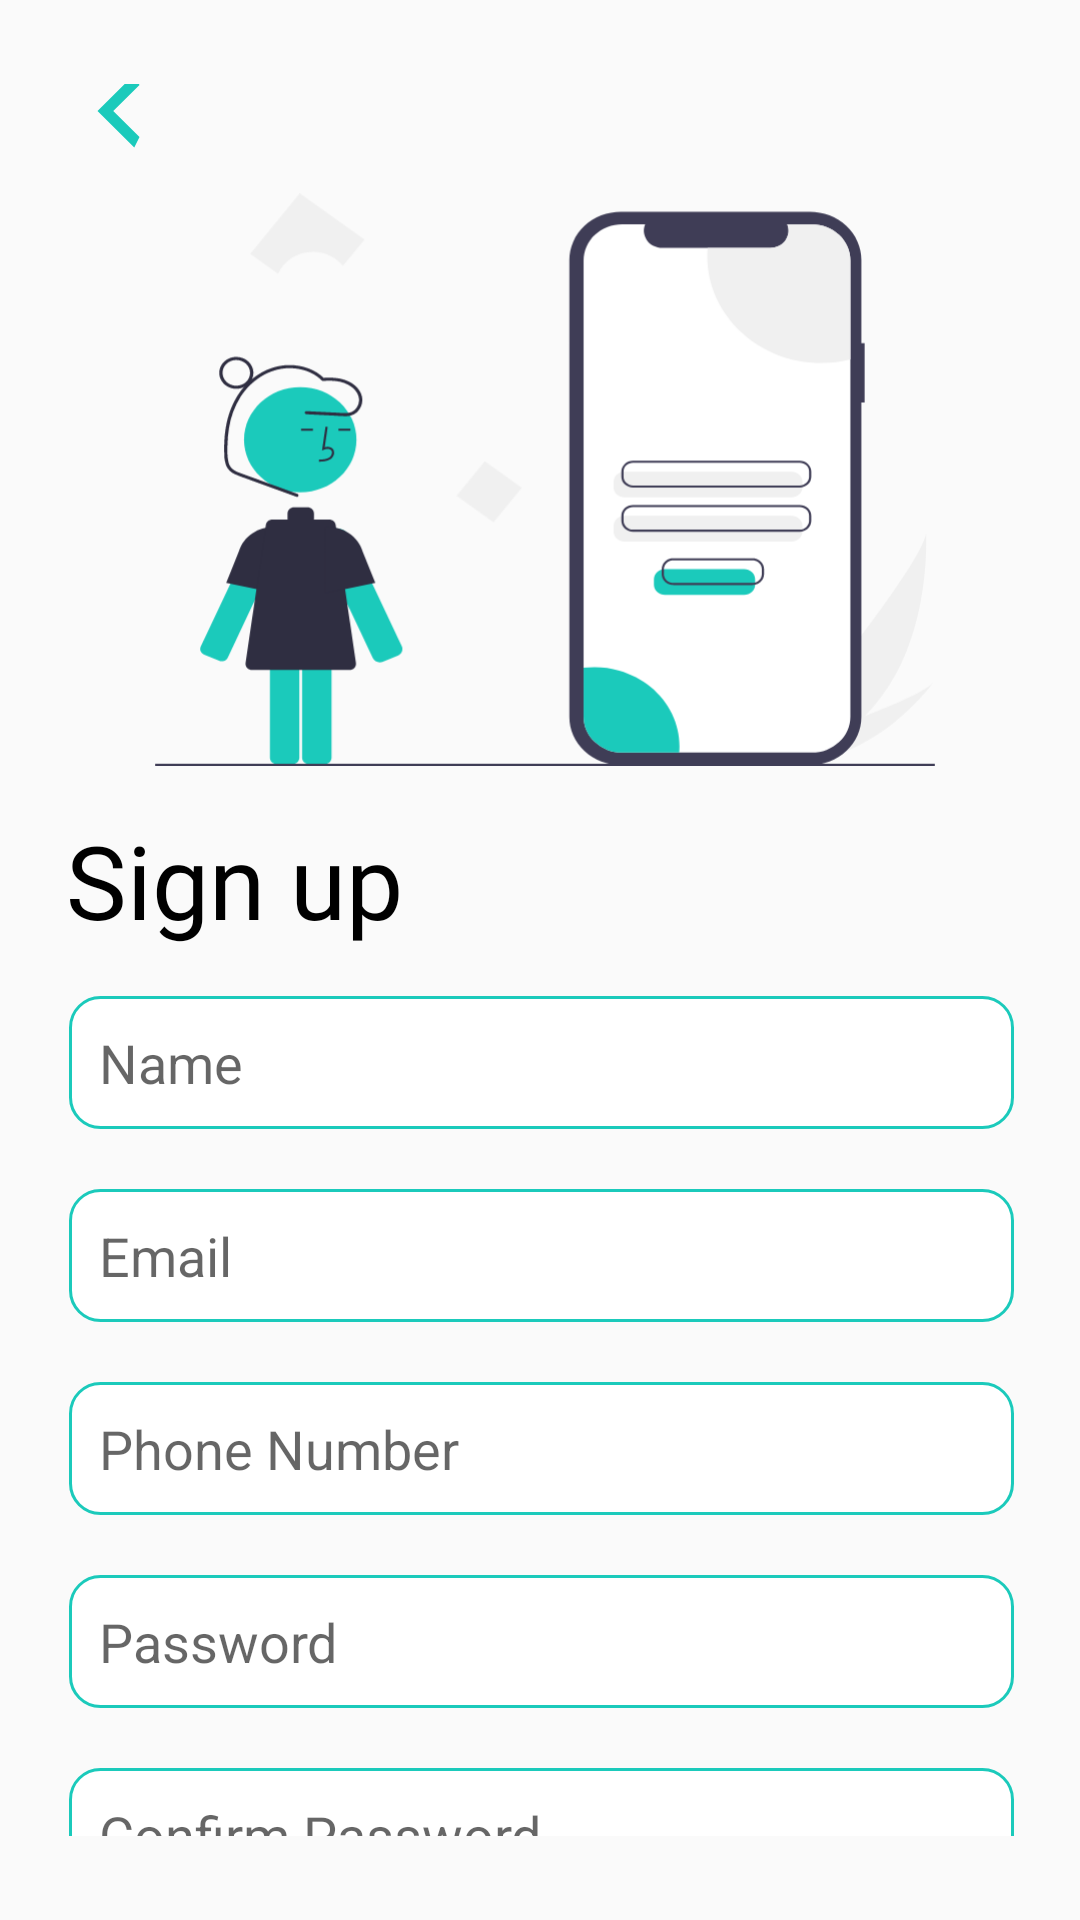

Icons on this 1080px×1920px Android screen, each with the point to tap as (x=x, y=y):
back: (x=118, y=116)
